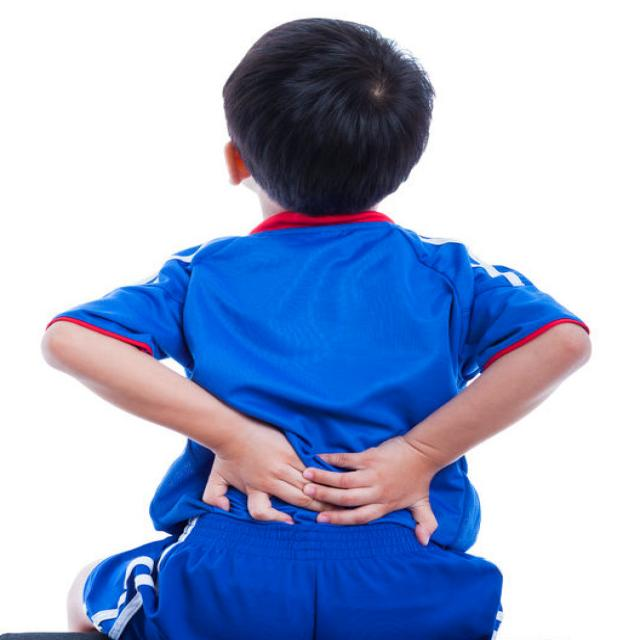child: (38, 13, 595, 640)
